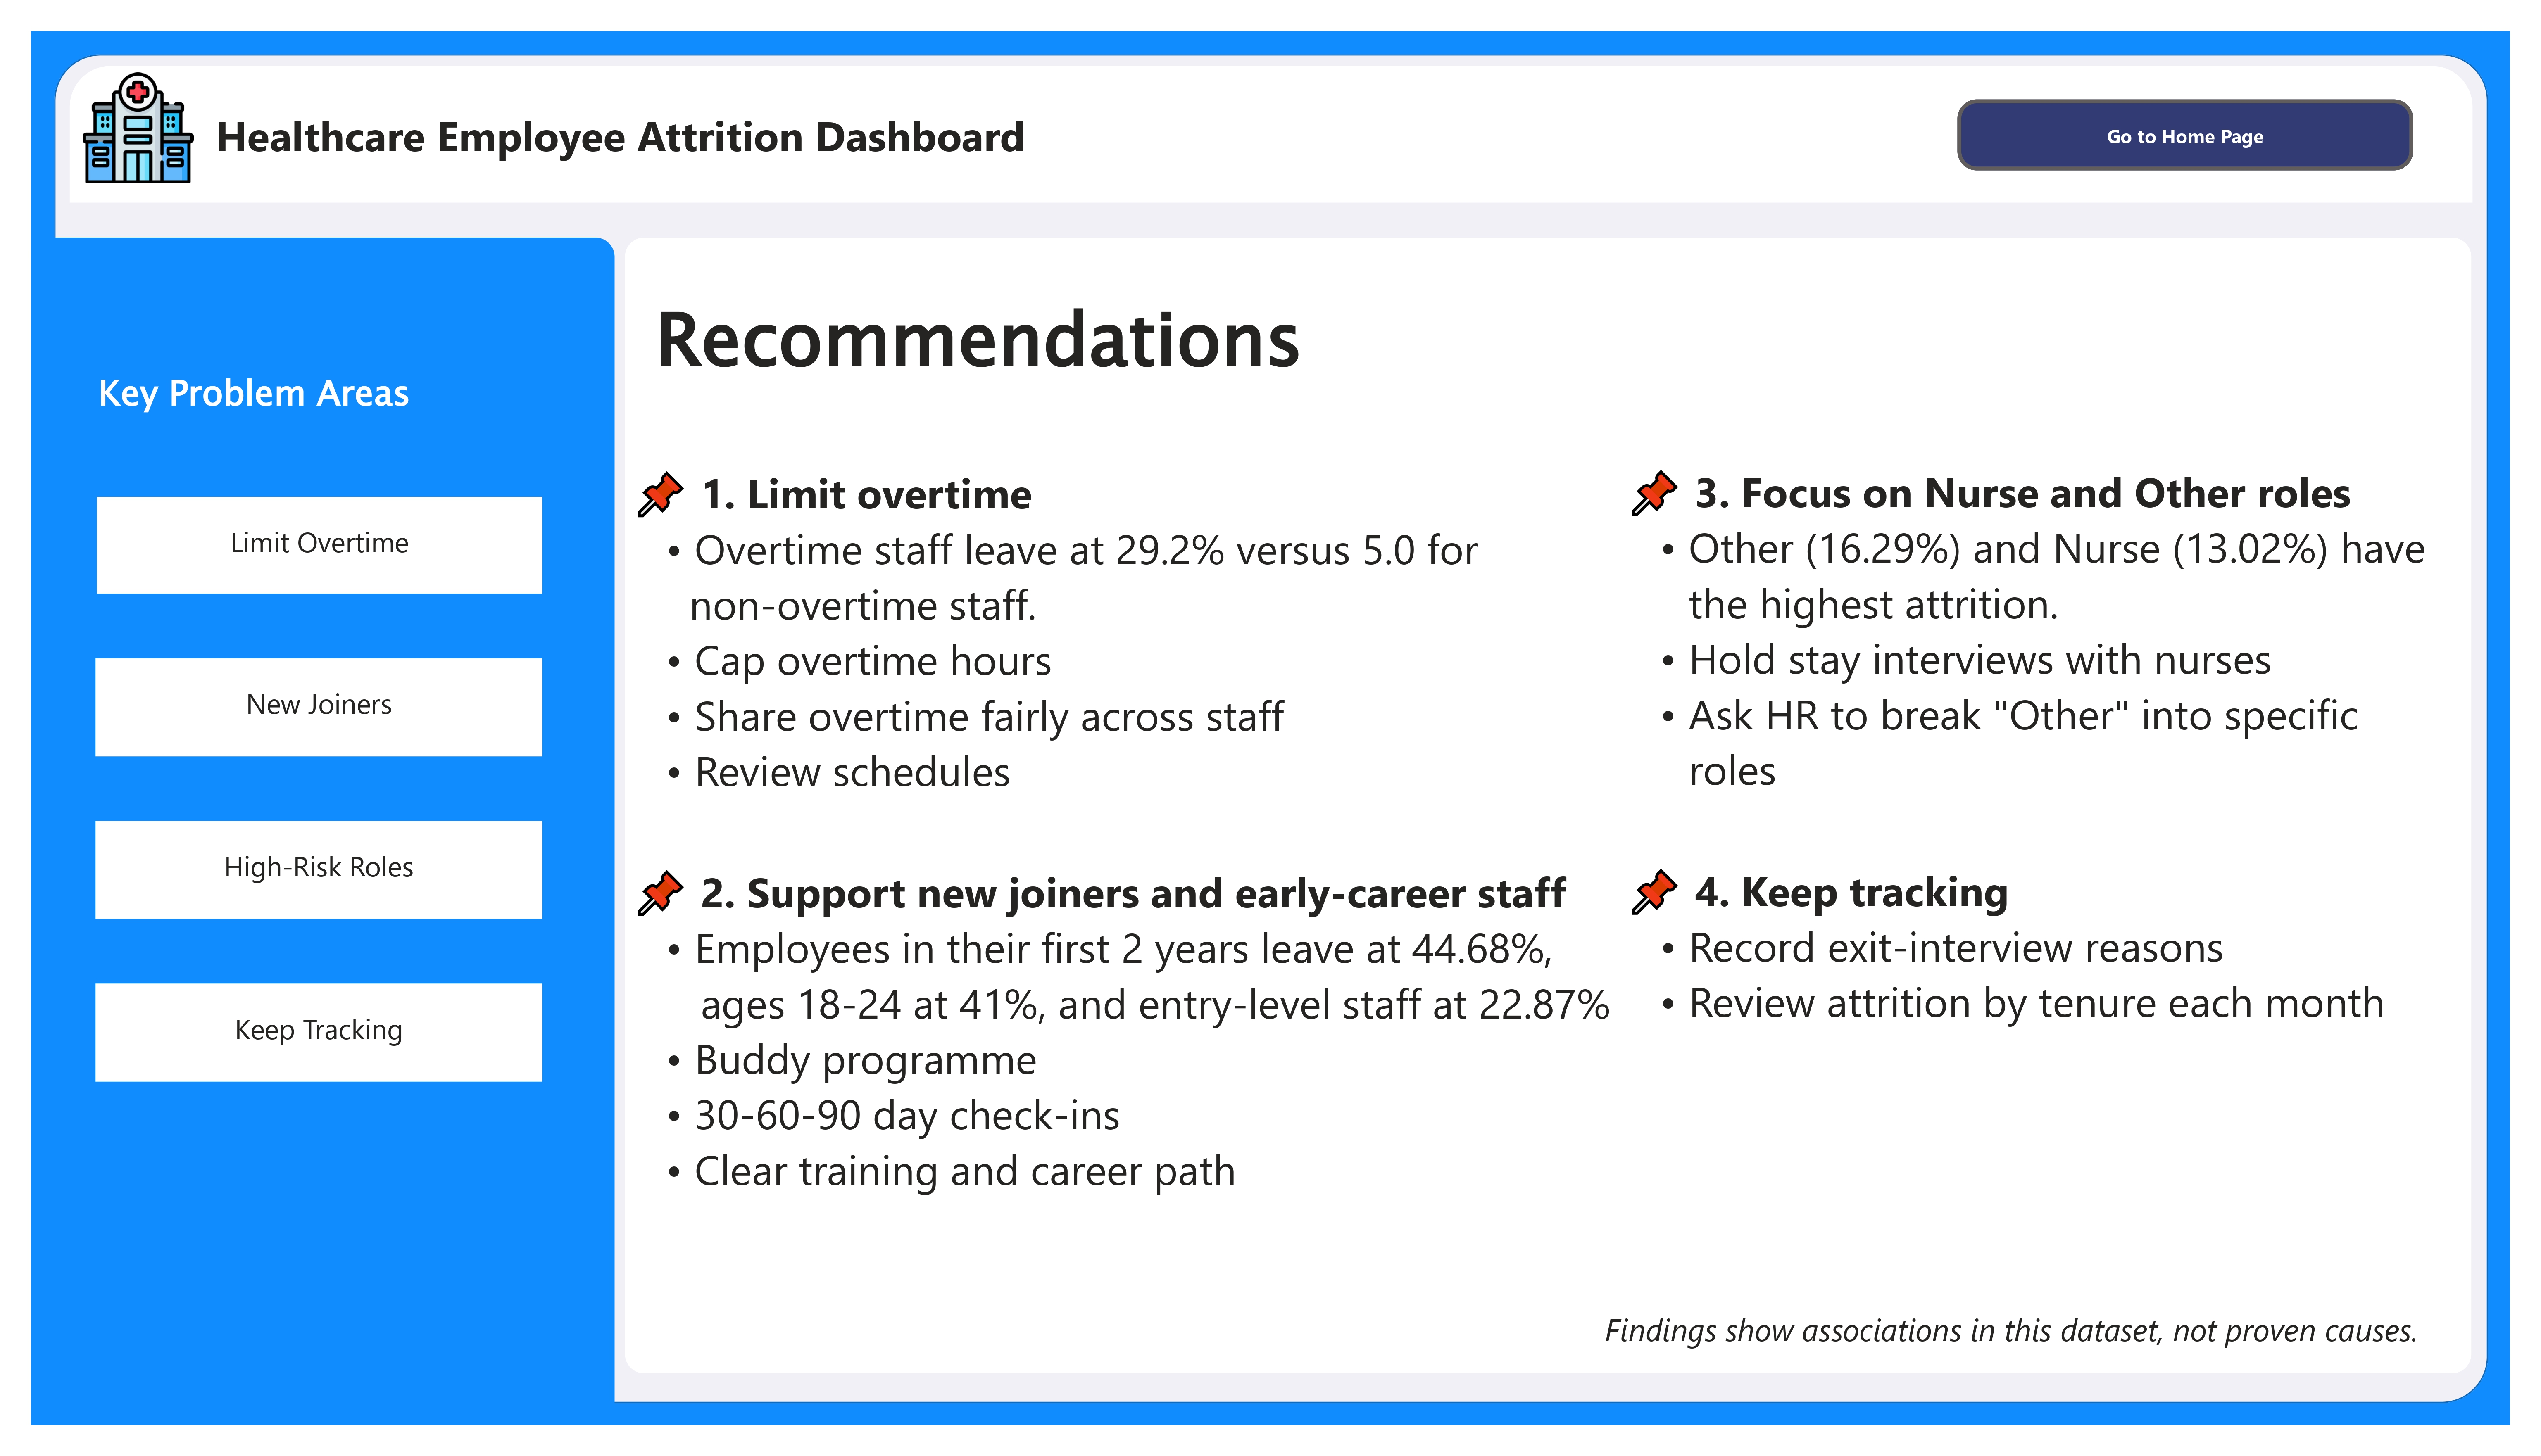

The dashboard page shown, as its layout file describes it:
{"tool":"powerbi","page":{"name":"Recommendation & Action Plan","canvas":[1920,1080],"ordinal":5},"visuals":[{"type":"shape","box":[17.5,17.5,1885,1045],"z":0},{"type":"shape","box":[30,27.1,1861.4,105.7],"z":1000},{"type":"shape","box":[0,160,452,920],"z":2000},{"type":"textbox","box":[137.5,52.5,740,55],"z":7000},{"type":"image","box":[22.9,27.1,120,95.7],"z":8000},{"type":"textbox","box":[23,256,300,60],"z":9000},{"type":"textbox","box":[50.5,360.5,345,75],"z":10000},{"type":"textbox","box":[50,486,346,76],"z":11000},{"type":"textbox","box":[50,612,346,76],"z":12000},{"type":"textbox","box":[50,738,346,76],"z":13000},{"type":"textbox","box":[460,160,1430,880],"z":14000},{"type":"textbox","box":[1230,160,633.3,880],"z":15000},{"type":"actionButton","box":[1491.7,53.3,353.3,55],"z":16000},{"type":"textbox","box":[893.8,983.8,960,56.7],"z":17000}]}

Visuals, with their boxes on the page's 1920x1080 design canvas (x1, y1, x2, y2). These are canvas units, not pixel positions in the 2541x1456 screenshot, which may show the page scaled, cropped or inside an application window:
shape: select_region(18, 18, 1902, 1062)
shape: select_region(30, 27, 1891, 133)
shape: select_region(0, 160, 452, 1080)
textbox: select_region(138, 52, 878, 108)
image: select_region(23, 27, 143, 123)
textbox: select_region(23, 256, 323, 316)
textbox: select_region(50, 360, 396, 436)
textbox: select_region(50, 486, 396, 562)
textbox: select_region(50, 612, 396, 688)
textbox: select_region(50, 738, 396, 814)
textbox: select_region(460, 160, 1890, 1040)
textbox: select_region(1230, 160, 1863, 1040)
actionButton: select_region(1492, 53, 1845, 108)
textbox: select_region(894, 984, 1854, 1040)
